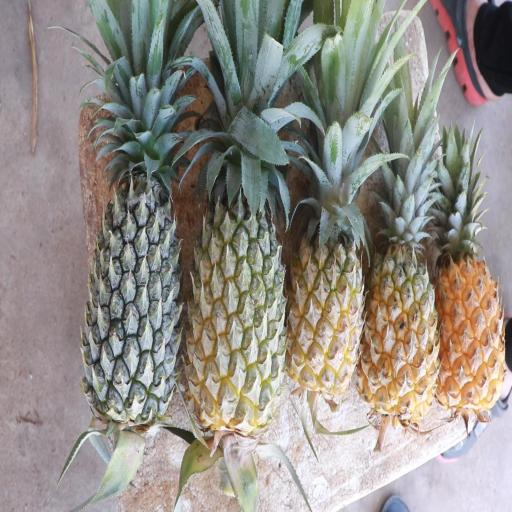------------------------------: (188, 134, 282, 422)
Pineapple - v8 v1: (289, 169, 364, 395), (366, 203, 437, 418), (436, 204, 502, 410)
